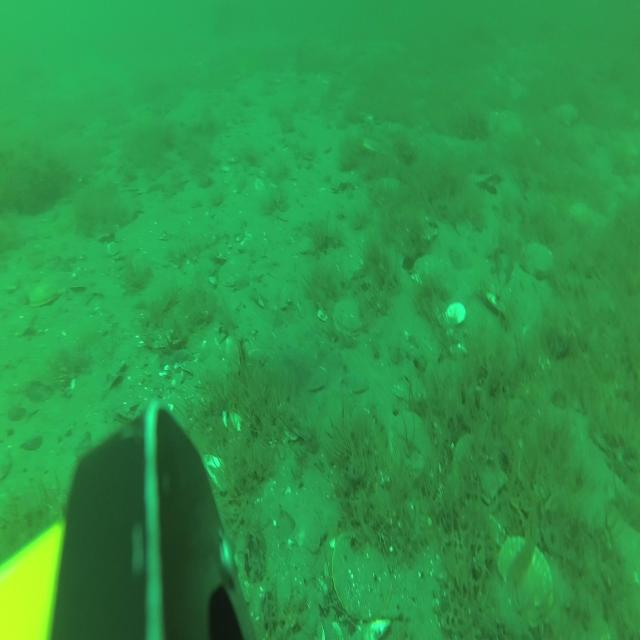scallop: (329, 528, 394, 622), (497, 531, 556, 622), (451, 430, 509, 509), (394, 205, 441, 244), (522, 238, 557, 281), (332, 296, 364, 338), (216, 252, 251, 290), (27, 274, 63, 308), (554, 96, 578, 131), (296, 231, 322, 259)
